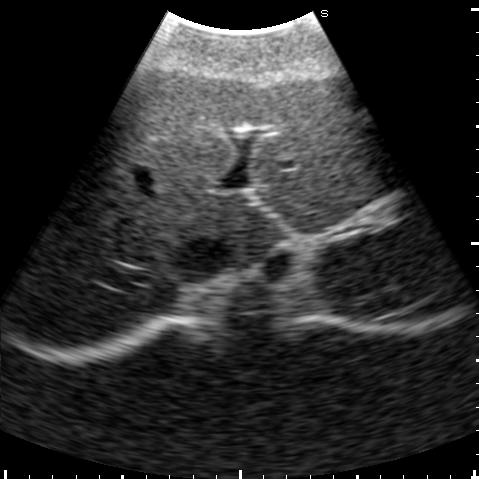IVC: (167, 237, 233, 284)
S1: (220, 195, 284, 266)
S2: (255, 164, 404, 236)
S3: (245, 71, 395, 204)
